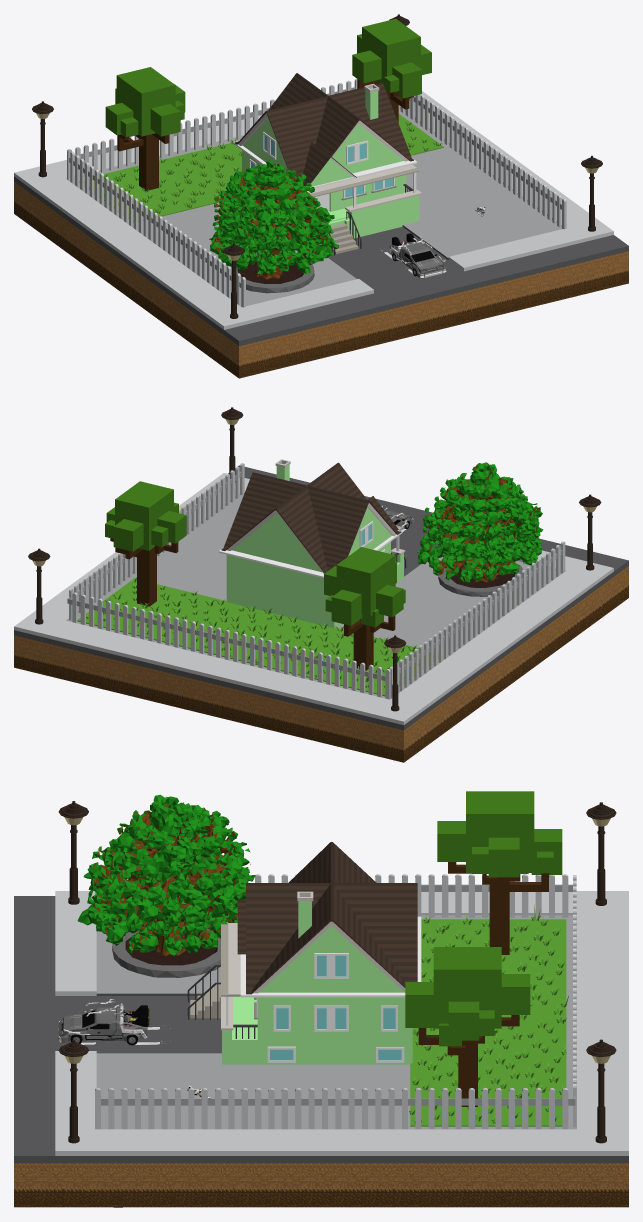
3 renders of one model, top to bottom at view 1: azimuth 30°, elevation 25°; view 2: azimuth 150°, elevation 25°; view 3: azimuth 270°, elevation 25°, orthographic. The views are drawn at different scales.
Visible parts, largest first — view 1: Cube.004, Cube.274, OBJRANDOM_CEIBA, VEHICLES_DELOREAN; view 2: Cube.004, Cube.274, OBJRANDOM_CEIBA; view 3: Cube.004, Cube.274, OBJRANDOM_CEIBA, VEHICLES_DELOREAN.
Part boxes in pixels (x1,y1,x2,y2): Cube.004: (14, 14, 628, 378); Cube.274: (233, 73, 422, 255); OBJRANDOM_CEIBA: (209, 160, 338, 293); VEHICLES_DELOREAN: (381, 233, 446, 277); Cube.004: (14, 407, 628, 762); Cube.274: (218, 459, 406, 627); OBJRANDOM_CEIBA: (416, 462, 543, 596); Cube.004: (14, 791, 628, 1207); Cube.274: (187, 842, 421, 1064); OBJRANDOM_CEIBA: (77, 794, 255, 977); VEHICLES_DELOREAN: (58, 999, 170, 1045).
Bounding box in the file's own units: 4000 × 1574 × 4000.
Materials: 38 (3 with a texture image).
